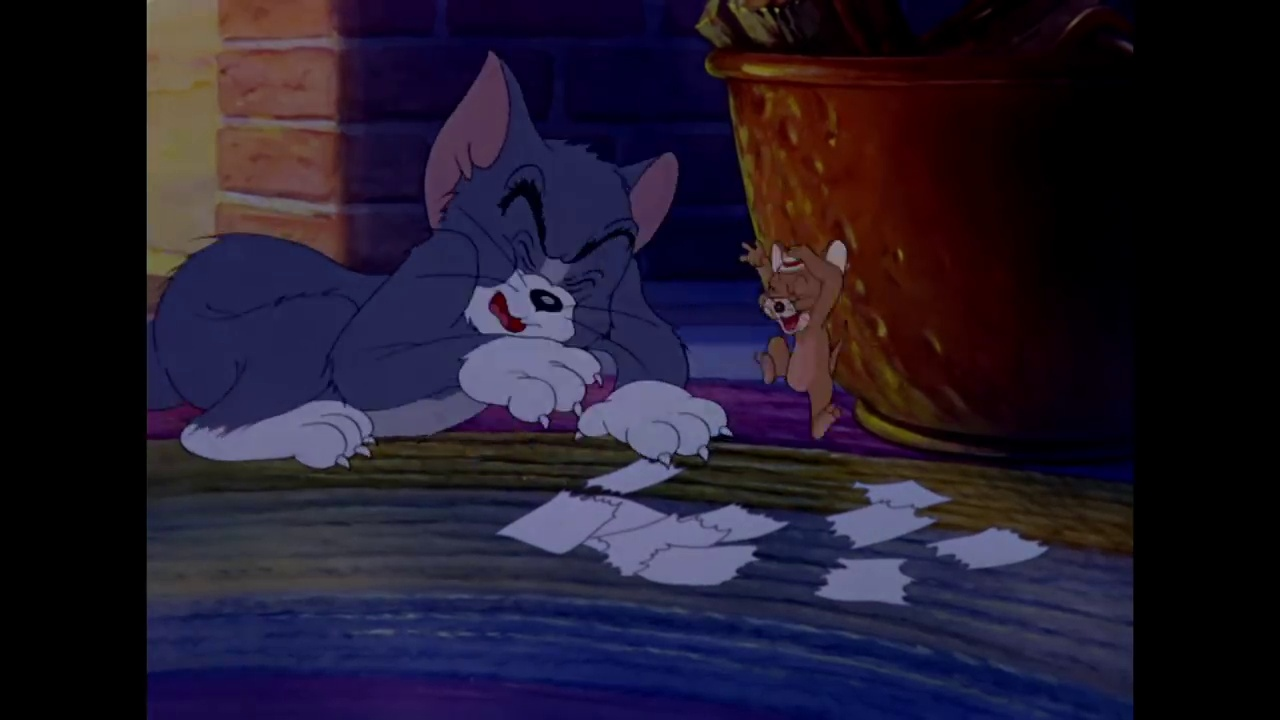tom: (419, 39, 692, 361)
